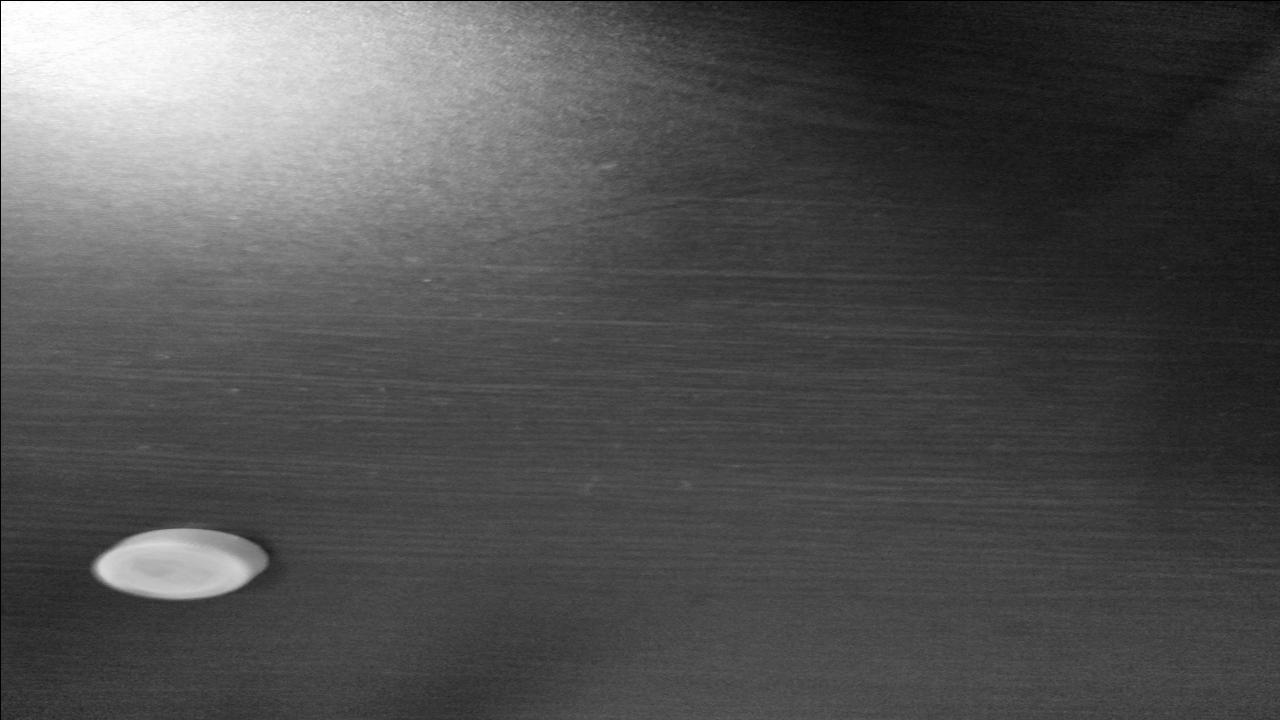bottle_cap: (98, 528, 256, 596)
